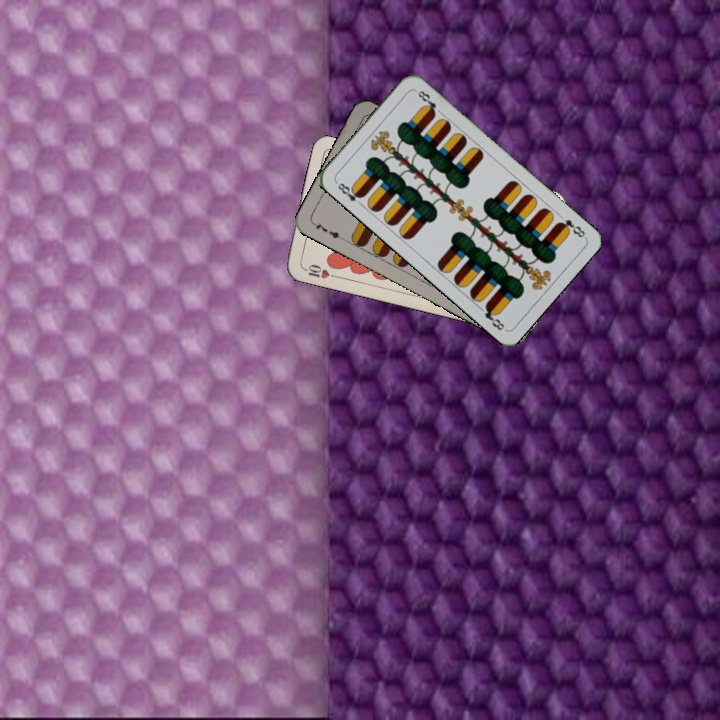E7: (309, 218, 347, 243)
E8: (332, 177, 366, 209), (553, 215, 588, 240)
H10: (298, 260, 338, 281)
